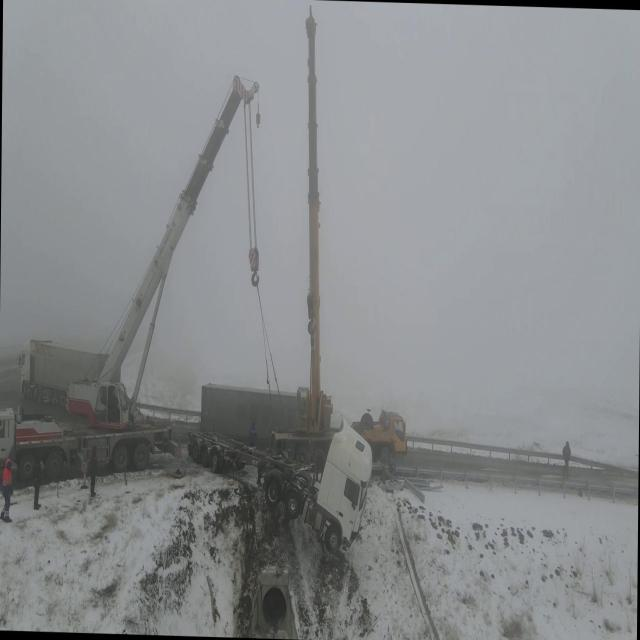crane: (0, 66, 262, 491), (266, 0, 412, 476)
